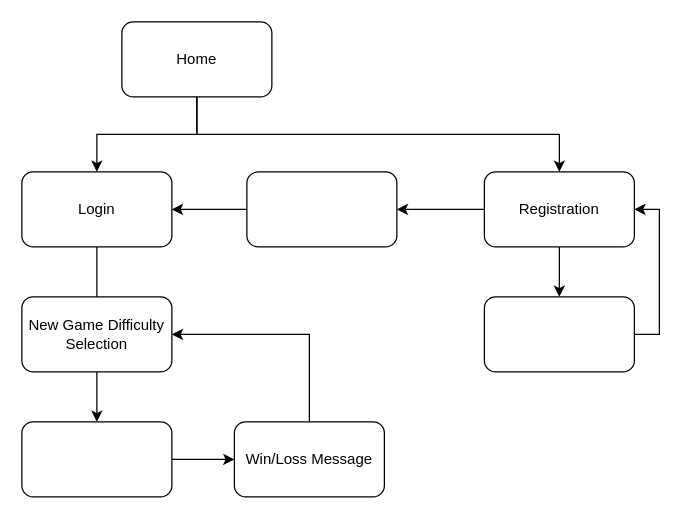
This 691x519 diagram has some shape labels left out. Each missing label, with the box of its shape:
Game Board: (21, 421, 172, 497)
Registration Failure: (483, 296, 634, 372)
Registration Success: (246, 171, 397, 247)
